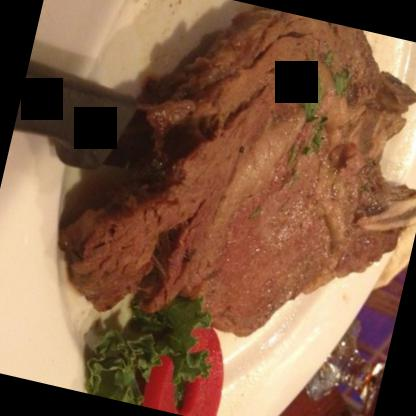beef: (44, 0, 415, 370)
